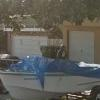Boat: (2, 52, 97, 100)
